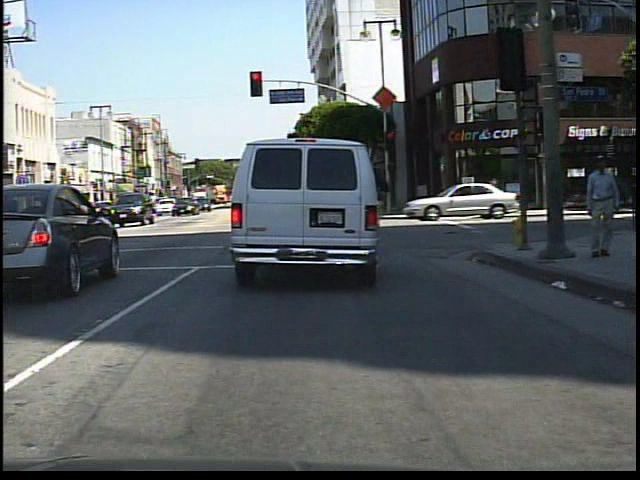person: (582, 149, 624, 260)
